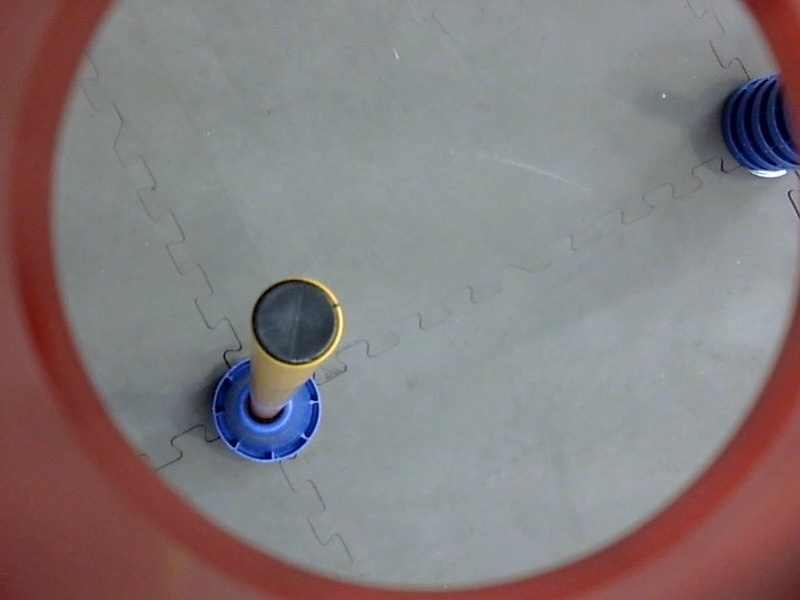tip: (248, 273, 349, 374)
